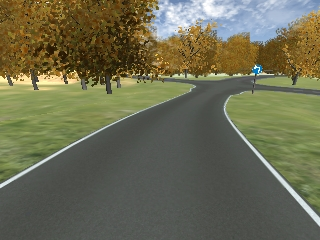left: (251, 64, 262, 75)
